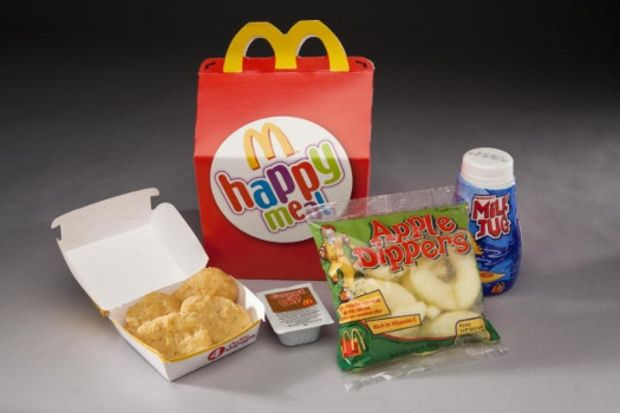mcdonalds: (240, 118, 295, 171)
